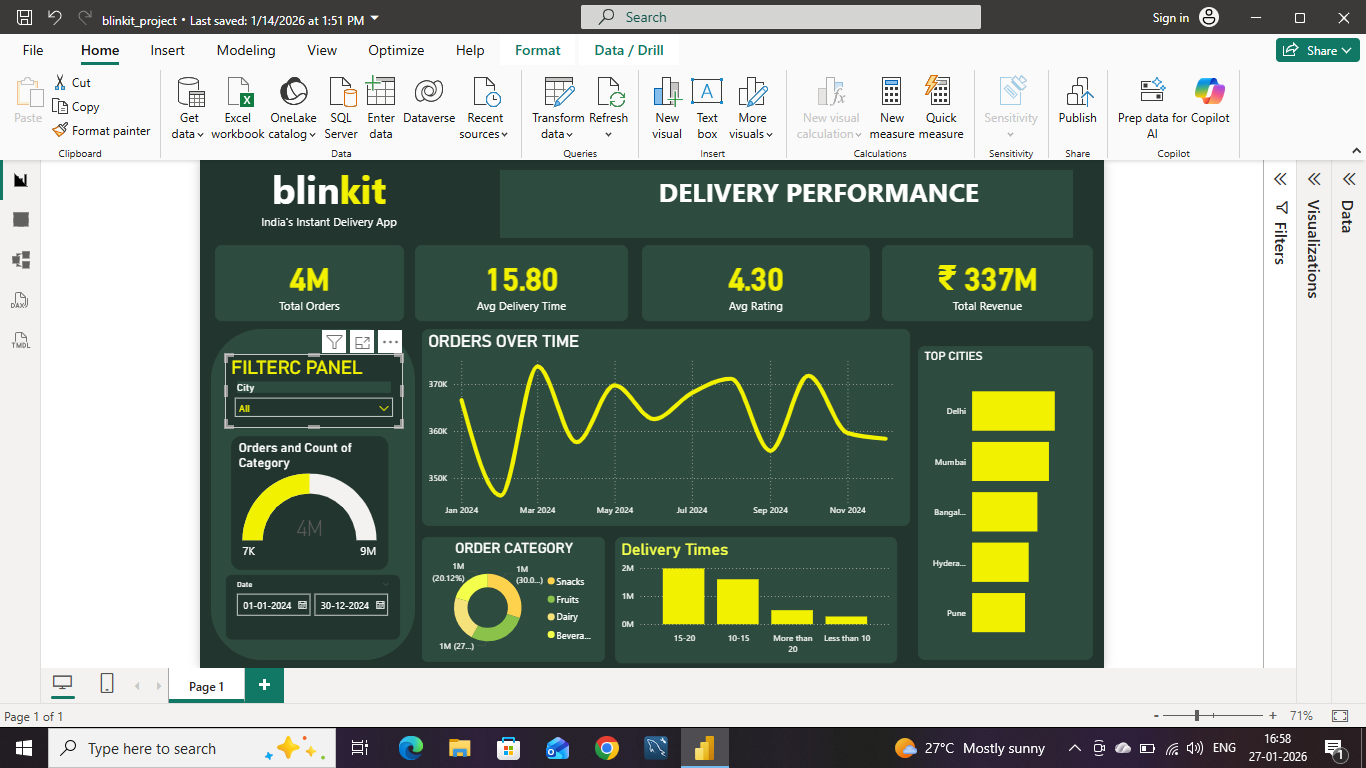

The page's visual inventory and layout, read from the dashboard file:
{"tool":"powerbi","page":{"name":"Page 1","canvas":[1280,720],"ordinal":0},"visuals":[{"type":"card","fields":{"Values":["blinkit_dataset.Total Orders"]},"box":[21.3,120.5,267.9,107.7],"z":0},{"type":"card","fields":{"Values":["blinkit_dataset.Total Revenue"]},"box":[966.6,120.5,299.1,107.7],"z":1000},{"type":"card","fields":{"Values":["blinkit_dataset.Avg Delivery Time"]},"box":[304.7,120.5,301.9,107.7],"z":2000},{"type":"card","fields":{"Values":["blinkit_dataset.Avg Rating"]},"box":[626.5,120.5,323.1,107.7],"z":3000},{"type":"shape","box":[15.6,239.5,289.1,469.1],"z":4000},{"type":"slicer","title":"FILTERC PANEL","fields":{"Values":["blinkit_dataset.City"]},"box":[35.4,275,252.3,104.9],"z":5000},{"type":"lineChart","title":"ORDERS  OVER  TIME","fields":{"Y":["blinkit_dataset.Total Orders"],"Category":["blinkit_dataset.Date.Variation.Date Hierarchy.Year","blinkit_dataset.Date.Variation.Date Hierarchy.Month"]},"box":[314.1,240.2,692.1,278.8],"z":6000},{"type":"donutChart","title":"ORDER CATEGORY","fields":{"Category":["blinkit_dataset.Category"],"Y":["Sum(blinkit_dataset.Orders)"]},"box":[314.6,534.3,259.4,177.2],"z":7000},{"type":"barChart","title":"TOP  CITIES","fields":{"Category":["blinkit_dataset.City"],"Y":["blinkit_dataset.Total Orders"]},"box":[1017.6,263.6,248,445],"z":8000},{"type":"slicer","fields":{"Values":["blinkit_dataset.Date"]},"box":[35.4,586.8,249.4,93.5],"z":10000},{"type":"clusteredColumnChart","title":" Delivery Times","fields":{"Category":["blinkit_dataset.DeliveryBucket"],"Y":["blinkit_dataset.Total Orders"]},"box":[588.2,534.3,399.7,178.6],"z":11000},{"type":"gauge","title":"Orders and Count of Category","fields":{"Y":["Sum(blinkit_dataset.Orders)"],"MinValue":["CountNonNull(blinkit_dataset.Category)"]},"box":[43.9,391.2,222.5,189.9],"z":13000},{"type":"shape","box":[425.2,14.2,812.1,96.4],"z":14000},{"type":"textbox","box":[541.4,14.2,671.8,76.5],"z":15000},{"type":"textbox","box":[35.4,0,294.8,120.5],"z":16000}]}

Visuals, with their boxes on the page's 1280x720 design canvas (x1, y1, x2, y2). These are canvas units, not pixel positions in the 1366x768 screenshot, which may show the page scaled, cropped or inside an application window:
card - blinkit_dataset.Total Orders: select_region(21, 120, 289, 228)
card - blinkit_dataset.Total Revenue: select_region(967, 120, 1266, 228)
card - blinkit_dataset.Avg Delivery Time: select_region(305, 120, 607, 228)
card - blinkit_dataset.Avg Rating: select_region(626, 120, 950, 228)
shape: select_region(16, 240, 305, 709)
"FILTERC PANEL" slicer: select_region(35, 275, 288, 380)
"ORDERS  OVER  TIME" lineChart: select_region(314, 240, 1006, 519)
"ORDER CATEGORY" donutChart: select_region(315, 534, 574, 712)
"TOP  CITIES" barChart: select_region(1018, 264, 1266, 709)
slicer - blinkit_dataset.Date: select_region(35, 587, 285, 680)
" Delivery Times" clusteredColumnChart: select_region(588, 534, 988, 713)
"Orders and Count of Category" gauge: select_region(44, 391, 266, 581)
shape: select_region(425, 14, 1237, 111)
textbox: select_region(541, 14, 1213, 91)
textbox: select_region(35, 0, 330, 120)
